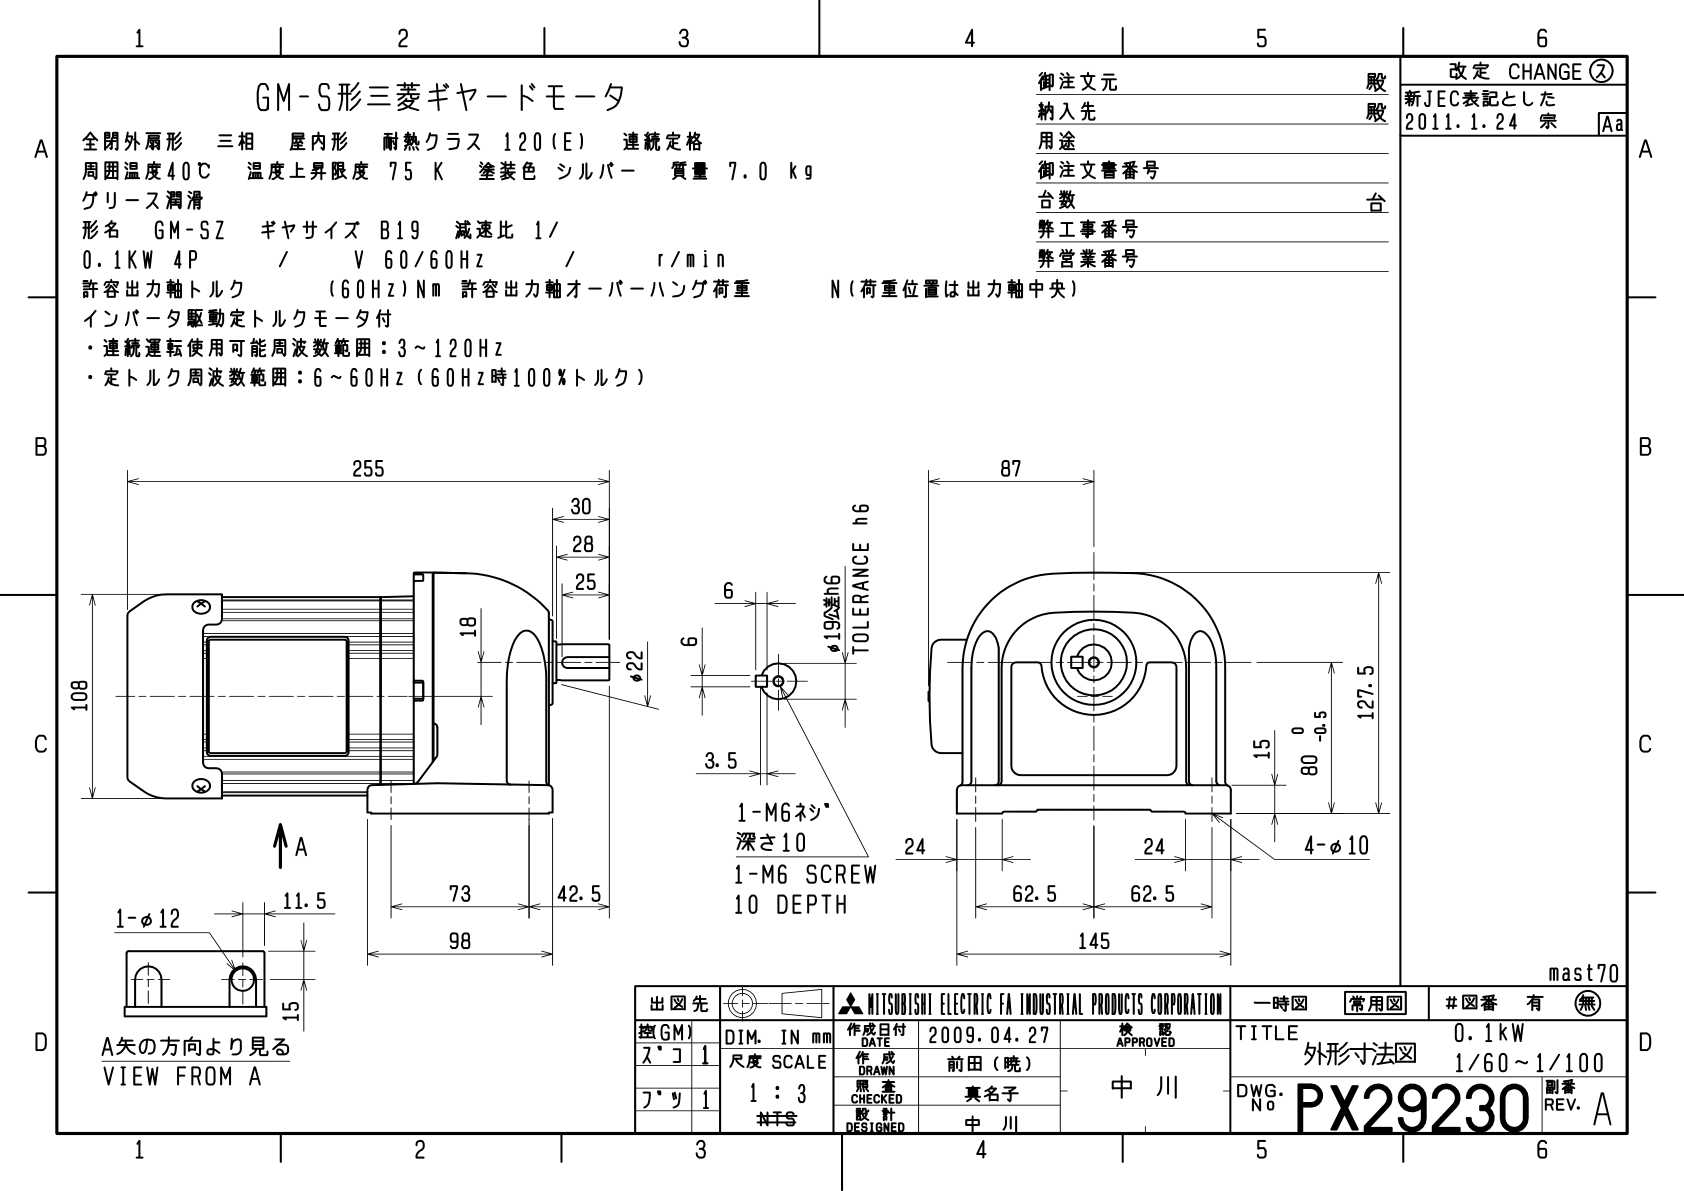GM_S_インバタ屋外＿三相_脚: (70, 416, 1393, 973)
